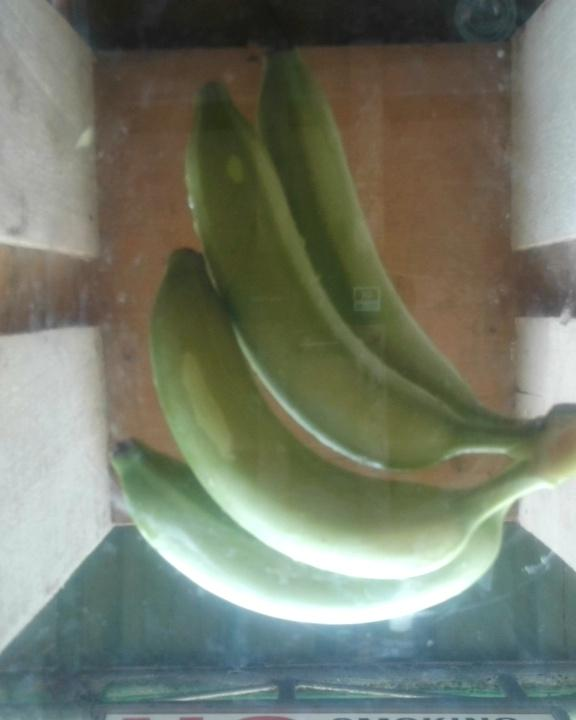SPOT: (94, 31, 576, 630)
